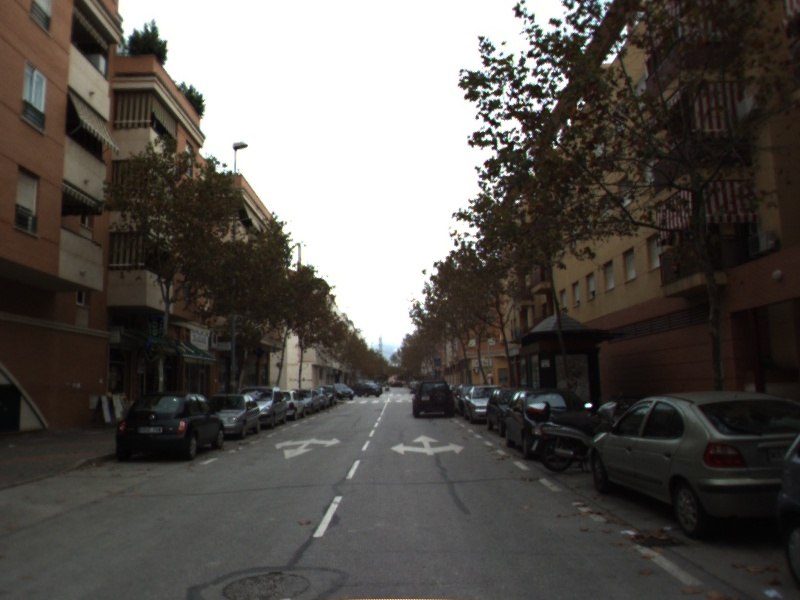STRAIGHT_LEFT_RIGHT: (388, 433, 467, 457)
